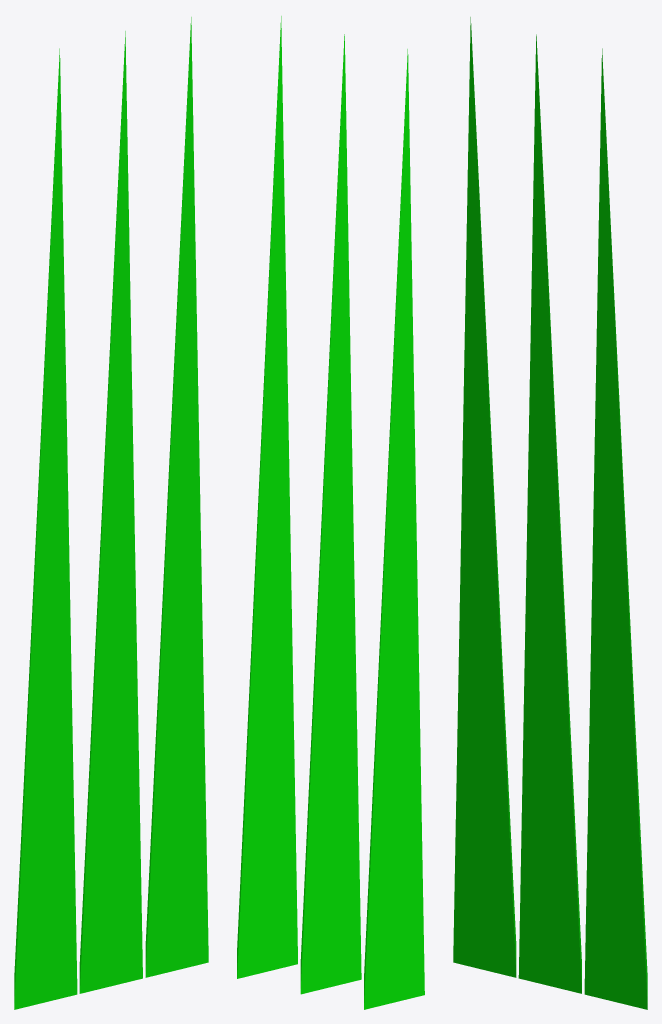
File: grass2.glb
3 renders of one model, left to right at view 1: azimuth 30°, elevation 25°; view 2: azimuth 150°, elevation 25°; view 3: azimuth 330°, elevation 25°, orthographic. The views are drawn at different scales.
Parts seen in each view (by area): view 1: Cone.031; view 2: Cone.031; view 3: Cone.031.
Part boxes in pixels (left/top/right/bottom): Cone.031: left=14, top=17, right=208, bottom=1009; Cone.031: left=237, top=16, right=424, bottom=1009; Cone.031: left=453, top=17, right=647, bottom=1009.
Size of the model in its own units: 0.1303 by 0.6186 by 0.0531.
